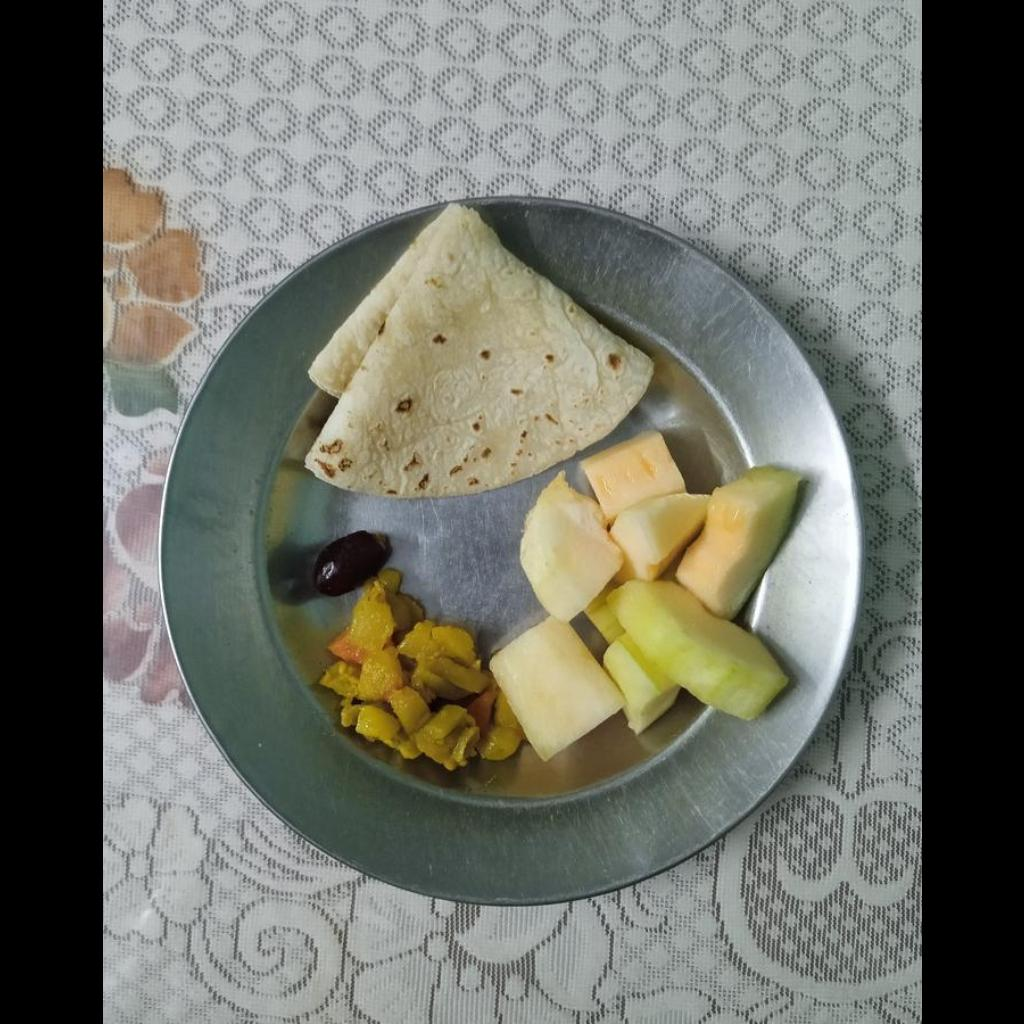dates: (266, 530, 391, 604)
papaya: (489, 436, 797, 759)
ruti: (306, 203, 665, 493)
vegetable: (321, 576, 492, 758)
